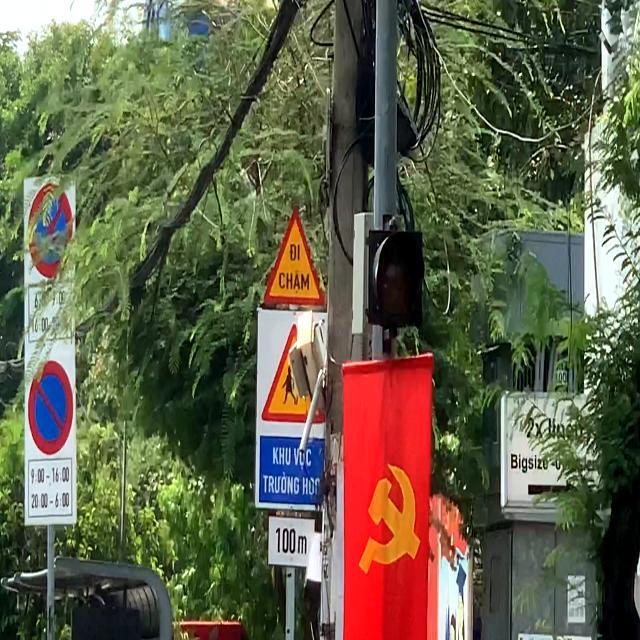P.130: (27, 182, 74, 280)
P.131a: (28, 360, 74, 456)
W.245a: (264, 207, 327, 305)
